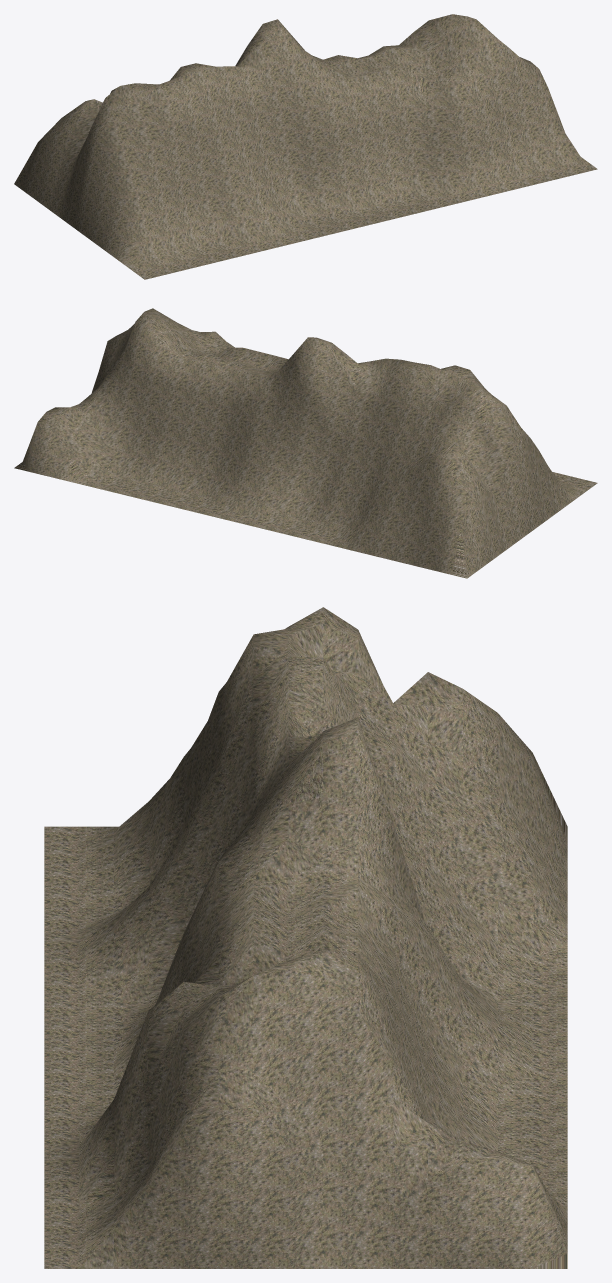
File: mountain.FBX
3 views of the same model, one above another, from view 1: azimuth 30°, elevation 25°; view 2: azimuth 150°, elevation 25°; view 3: azimuth 270°, elevation 25° (orthographic). The views are drawn at different scales.
Parts seen in each view (by area): view 1: mountain; view 2: mountain; view 3: mountain.
Part boxes in pixels (box(x1,y1,x2,y2)): mountain: box(14, 14, 597, 279); mountain: box(14, 308, 597, 578); mountain: box(44, 607, 567, 1268).
Bounding box in the file's own units: 800 × 400 × 256.
